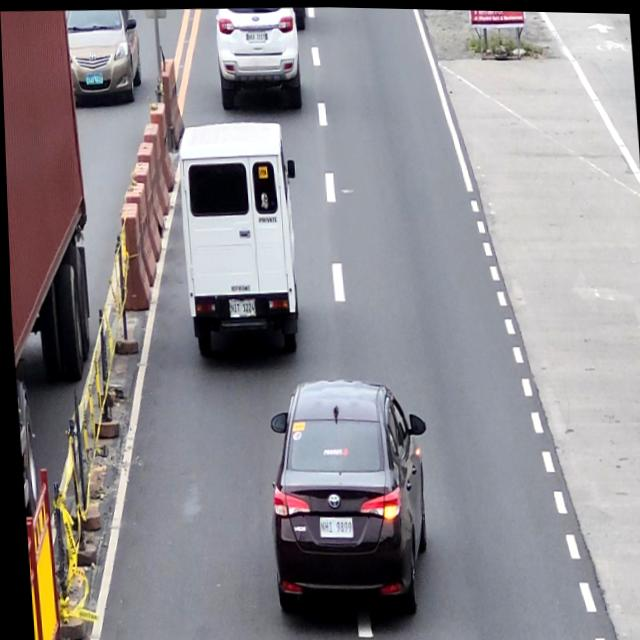Car: (256, 372, 436, 634), (174, 116, 305, 365), (213, 4, 302, 113)
License-Plate: (313, 512, 350, 539), (226, 296, 254, 318), (248, 27, 265, 42)
